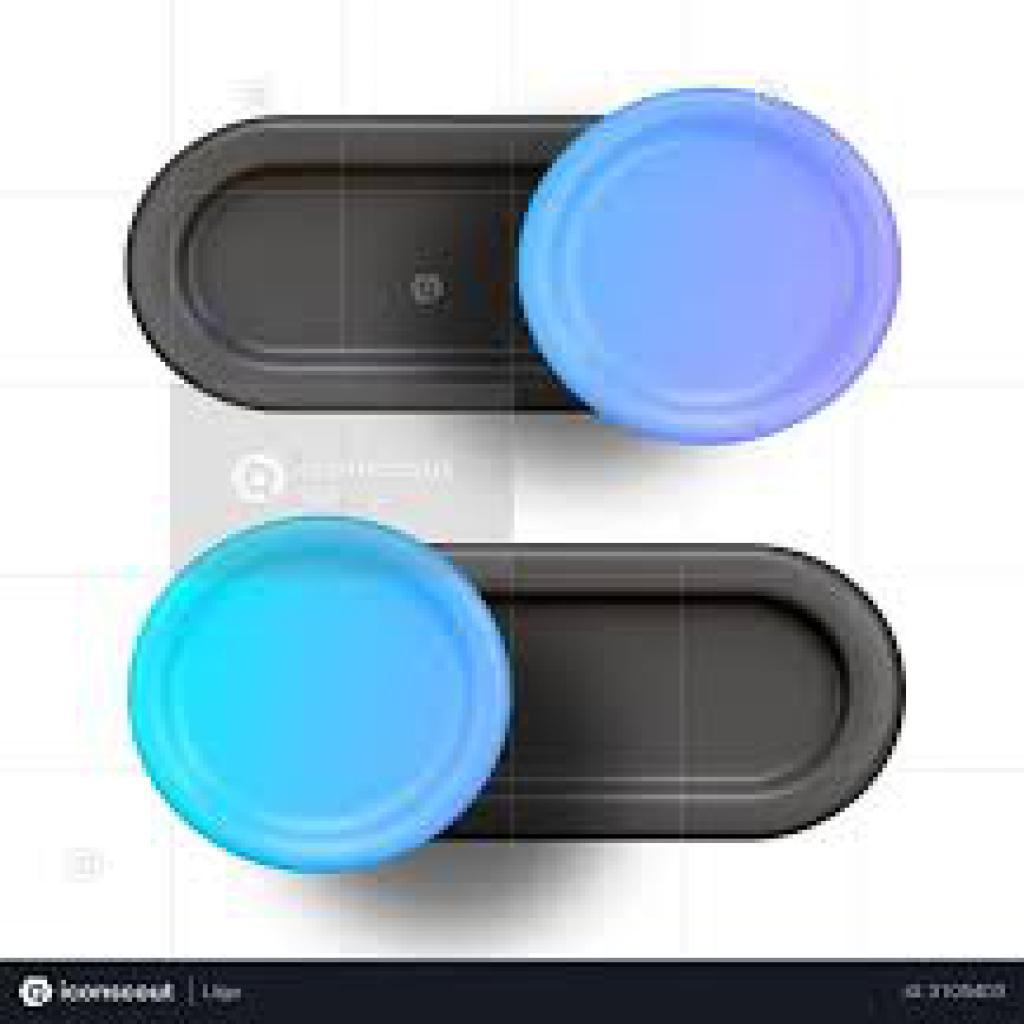switch: (122, 90, 905, 443), (128, 520, 905, 872)
